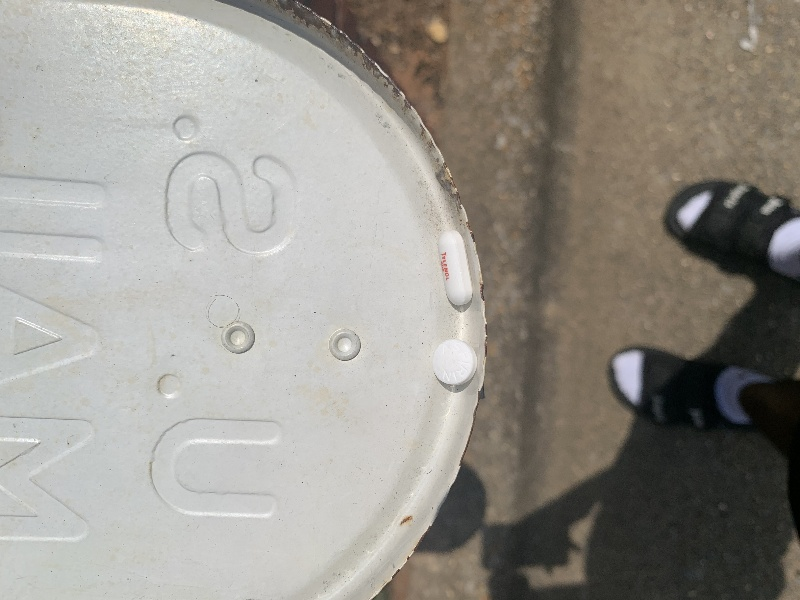Aspirin: (429, 337, 481, 389)
Tylenol: (430, 226, 475, 315)
